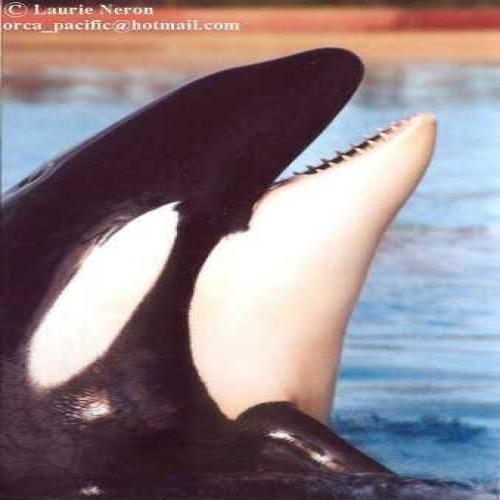killer_whale-endangered: (0, 31, 449, 481)
